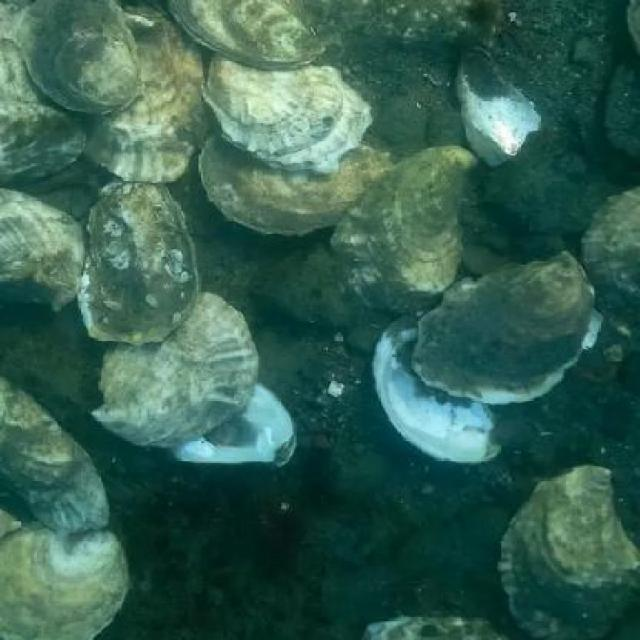Oyster- Indeterminate: (414, 252, 603, 405), (95, 290, 261, 449), (498, 465, 640, 640), (332, 145, 479, 314), (76, 3, 214, 182), (200, 124, 395, 236), (76, 180, 199, 343), (203, 53, 370, 172), (0, 375, 111, 533), (0, 520, 128, 640), (19, 0, 143, 115), (169, 0, 326, 70), (0, 188, 86, 310), (580, 188, 640, 335), (0, 97, 88, 189), (359, 616, 507, 640)
